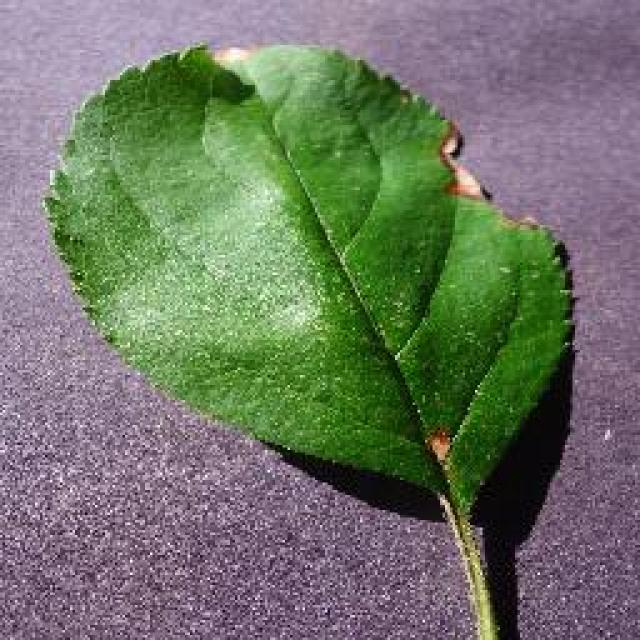Black_rot: (40, 38, 575, 638)
